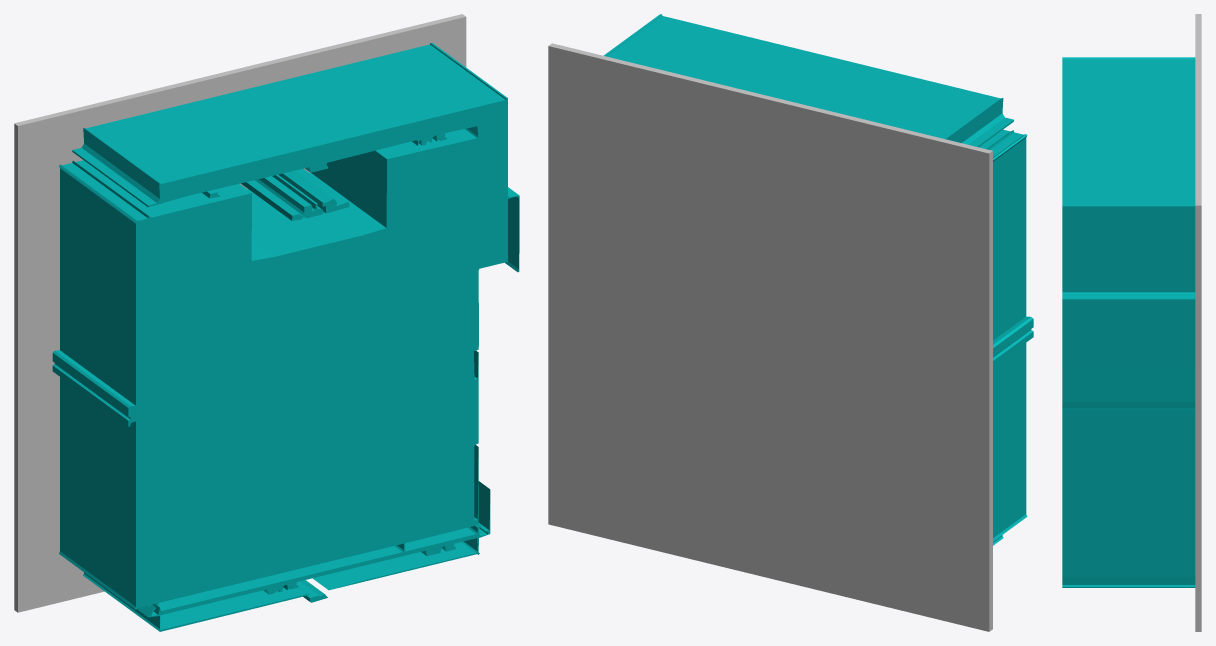
The picture shows the model from 3 angles, left to right: view 1: azimuth 30°, elevation 25°; view 2: azimuth 150°, elevation 25°; view 3: azimuth 270°, elevation 25°; orthographic projection. The views are drawn at different scales.
Parts seen in each view (by area): view 1: world; view 2: world; view 3: world.
Boxes of the visible parts, x1,y1,x2,y2 form: world: (14, 14, 519, 631); world: (548, 14, 1033, 631); world: (1062, 14, 1201, 631).
Bounding box in the file's own units: 10.23 × 10.61 × 3.15.
